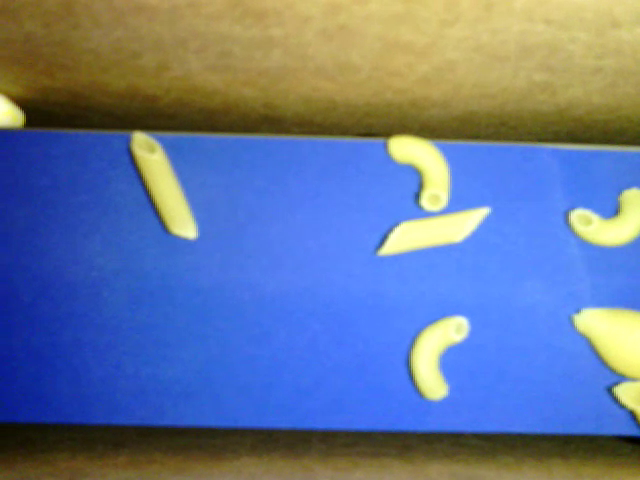elbow: (408, 315, 470, 403), (386, 136, 449, 211), (567, 186, 639, 247)
penne: (130, 134, 197, 239), (377, 207, 490, 256)
shell: (572, 307, 639, 378)
